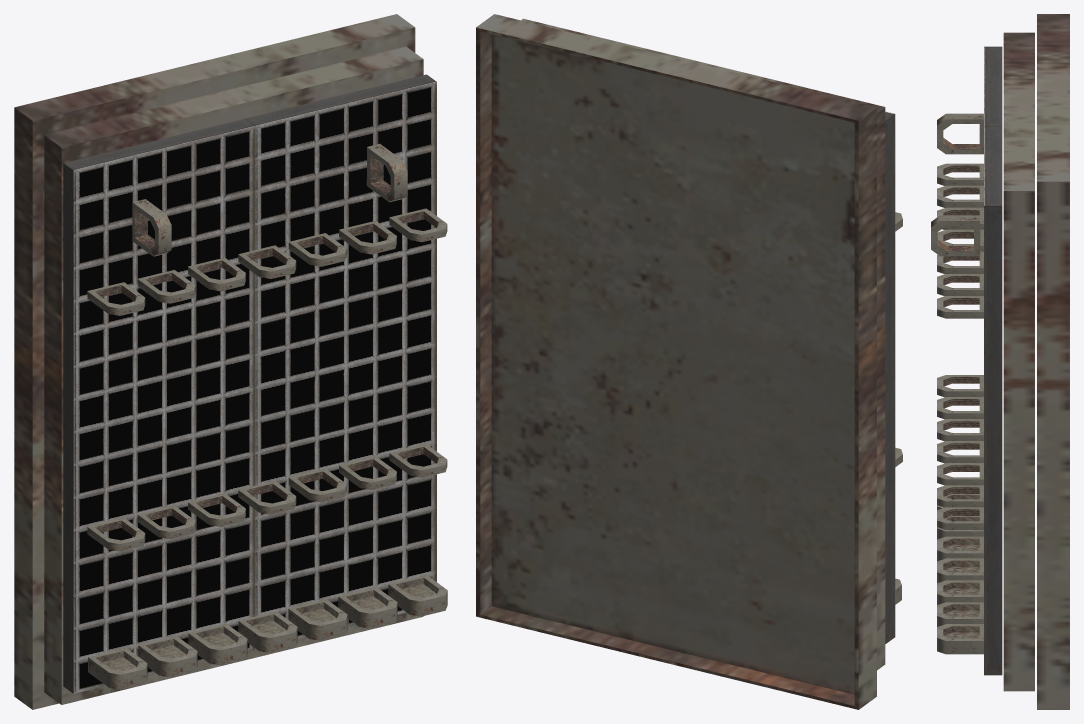
File: 100_GunYard.fbx
3 views of the same model, side by side, from view 1: azimuth 30°, elevation 25°; view 2: azimuth 150°, elevation 25°; view 3: azimuth 270°, elevation 25° (orthographic). The views are drawn at different scales.
Visible parts, largest first — view 1: LOD_1_Group_0_Sub_2__sm30_052_Steelrack01A_Mat, LOD_1_Group_0_Sub_1__sm30_046_IronShelf02A_Mat; view 2: LOD_1_Group_0_Sub_1__sm30_046_IronShelf02A_Mat, LOD_1_Group_0_Sub_2__sm30_052_Steelrack01A_Mat; view 3: LOD_1_Group_0_Sub_1__sm30_046_IronShelf02A_Mat, LOD_1_Group_0_Sub_2__sm30_052_Steelrack01A_Mat.
Boxes of the visible parts, x1,y1,x2,y2 form: LOD_1_Group_0_Sub_2__sm30_052_Steelrack01A_Mat: (63,74,436,693); LOD_1_Group_0_Sub_1__sm30_046_IronShelf02A_Mat: (14,14,447,709); LOD_1_Group_0_Sub_1__sm30_046_IronShelf02A_Mat: (476,14,902,709); LOD_1_Group_0_Sub_2__sm30_052_Steelrack01A_Mat: (885,111,895,643); LOD_1_Group_0_Sub_1__sm30_046_IronShelf02A_Mat: (931,14,1069,709); LOD_1_Group_0_Sub_2__sm30_052_Steelrack01A_Mat: (984,46,1002,675).
Size of the model in its own units: 0.8802 by 1.29 by 0.3084.
